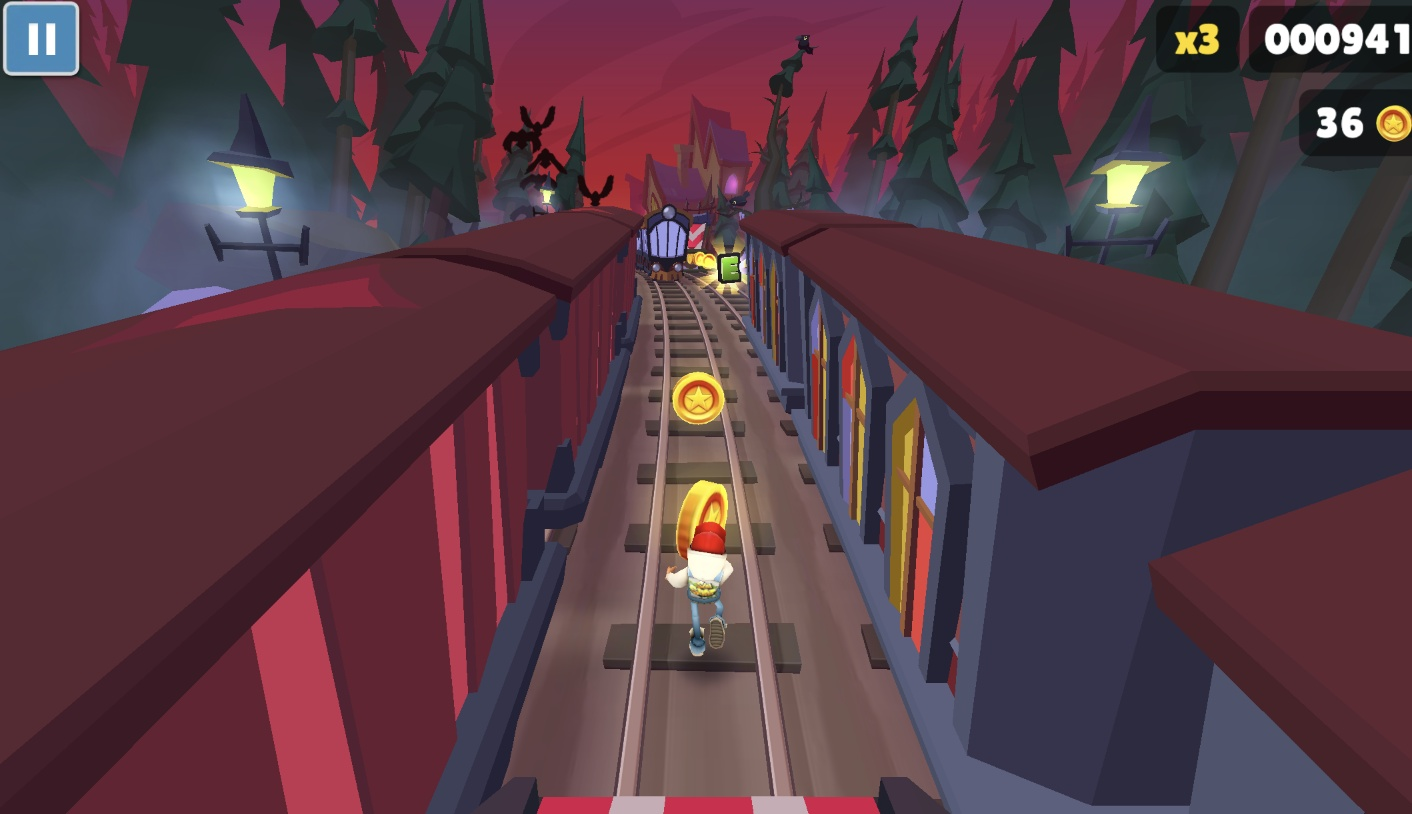ground_barrier: (500, 777, 943, 814)
overhead_barrier: (686, 213, 710, 260)
train: (749, 217, 1412, 814), (0, 207, 641, 814), (637, 205, 694, 281)
